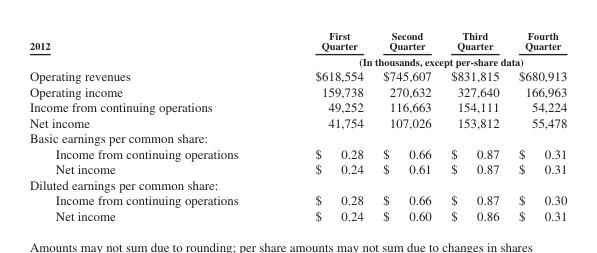table: (28, 29, 566, 222)
table column: (28, 29, 276, 222), (276, 29, 372, 222), (372, 29, 440, 222), (440, 29, 508, 222), (508, 29, 566, 222)
table column header: (28, 29, 566, 67)
table projected row header: (28, 129, 566, 145), (28, 176, 566, 191)
table row: (28, 29, 566, 53), (28, 67, 566, 83), (28, 98, 566, 114), (28, 129, 566, 145), (28, 160, 566, 176), (28, 191, 566, 207), (28, 83, 566, 98), (28, 114, 566, 129), (28, 145, 566, 160), (28, 176, 566, 191), (28, 207, 566, 222), (28, 53, 566, 67)
table spanning cell: (28, 29, 276, 67), (276, 53, 566, 67)
